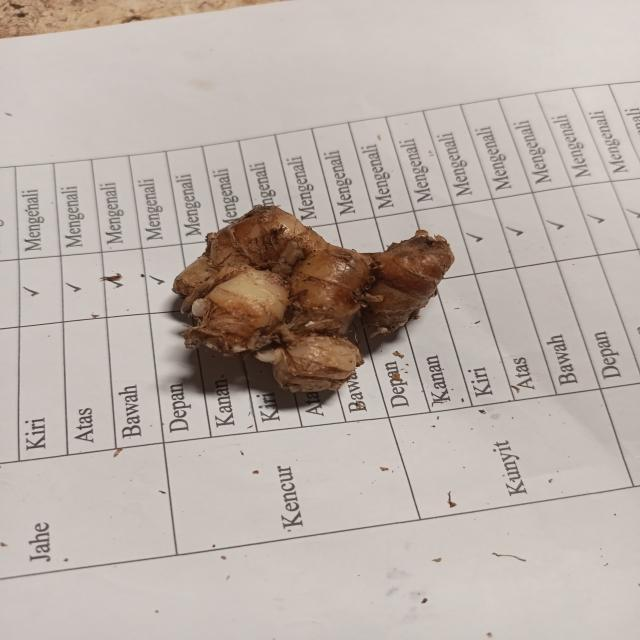ginger: (190, 212, 440, 382)
